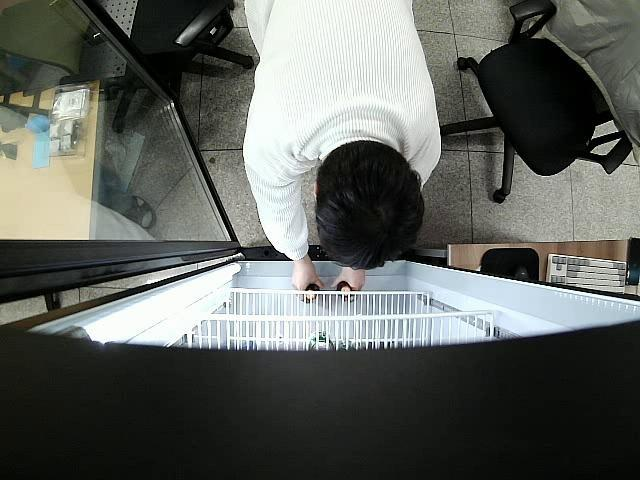17_vita500: (335, 278, 355, 300), (304, 282, 322, 302)
